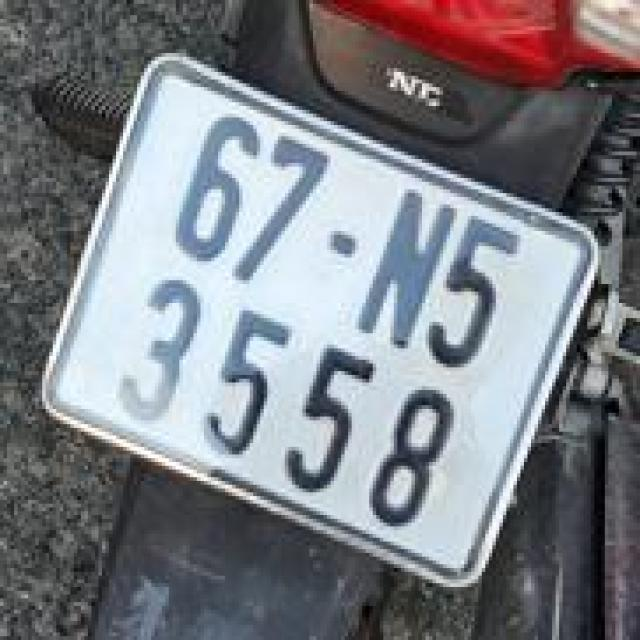3: (104, 265, 219, 444)
5: (408, 197, 538, 390), (183, 293, 307, 474), (268, 335, 392, 510)
6: (157, 101, 273, 274)
7: (220, 122, 346, 305)
8: (349, 367, 471, 547)
N: (348, 178, 468, 365)
